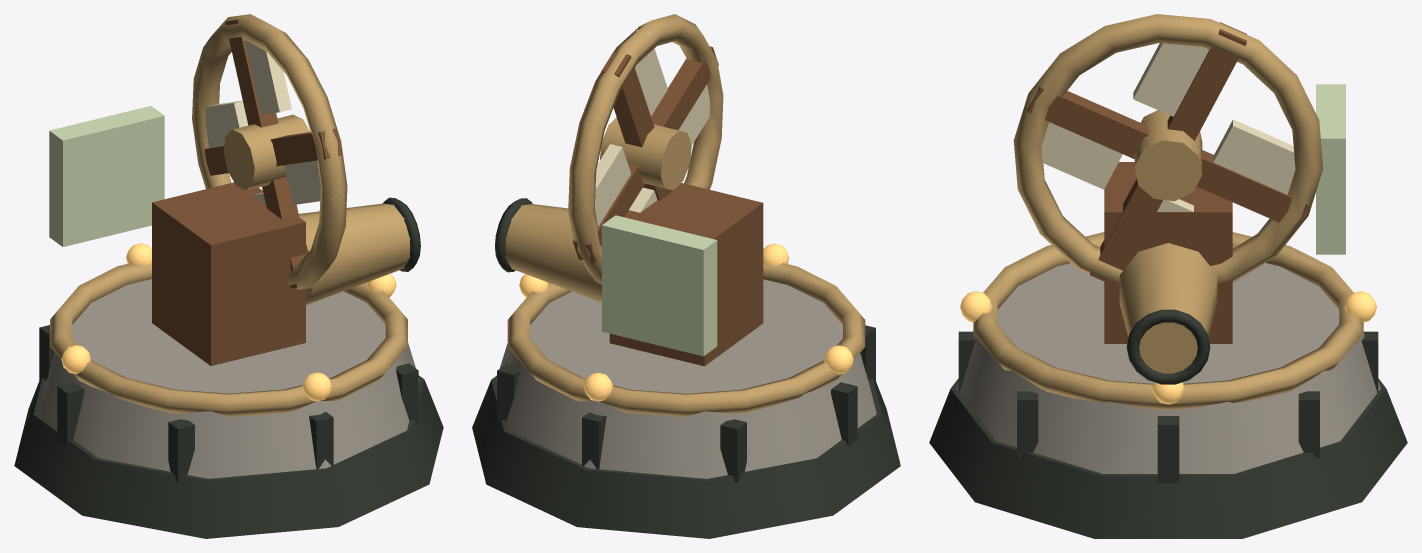
Rendered from tower_wind_windSwitch.glb.
3 views of the same model, side by side, from view 1: azimuth 30°, elevation 25°; view 2: azimuth 150°, elevation 25°; view 3: azimuth 270°, elevation 25° (orthographic). The views are drawn at different scales.
Parts seen in each view (by area): view 1: stone_1, foot_0, mill_15, deflector_28, rim_2, guide_ring_16, air_nozzle_26, hub_17, sail_21, spar_20, spar_22, sail_19 (+11 smaller); view 2: stone_1, foot_0, deflector_28, rim_2, mill_15, guide_ring_16, air_nozzle_26, hub_17, spar_22, spar_20, sail_19, mortar_8 (+10 smaller); view 3: stone_1, foot_0, guide_ring_16, rim_2, air_nozzle_26, mill_15, deflector_28, hub_17, sail_19, spar_22, sail_21, sail_23 (+12 smaller).
Boxes of the visible parts, x1,y1,x2,y2 form: stone_1: (38, 279, 419, 478); foot_0: (14, 375, 443, 538); mill_15: (152, 182, 305, 365); deflector_28: (49, 106, 164, 246); rim_2: (50, 262, 407, 416); guide_ring_16: (192, 14, 347, 289); air_nozzle_26: (299, 203, 410, 304); hub_17: (223, 114, 310, 190); sail_21: (245, 25, 291, 114); spar_20: (225, 19, 278, 127); spar_22: (270, 128, 342, 166); sail_19: (205, 100, 248, 147); stone_1: (496, 279, 876, 478); foot_0: (472, 375, 900, 538); deflector_28: (602, 215, 717, 356); rim_2: (507, 263, 865, 416); mill_15: (609, 183, 763, 366); guide_ring_16: (568, 14, 723, 284); air_nozzle_26: (505, 204, 601, 302); hub_17: (600, 117, 691, 190); spar_22: (651, 46, 718, 130); spar_20: (601, 51, 654, 147); sail_19: (571, 144, 630, 226); mortar_8: (720, 419, 746, 482); stone_1: (956, 263, 1380, 473); foot_0: (929, 378, 1407, 538); guide_ring_16: (1013, 14, 1323, 284); rim_2: (973, 232, 1363, 410); air_nozzle_26: (1119, 243, 1217, 373); mill_15: (1104, 162, 1232, 343); deflector_28: (1316, 84, 1345, 254); hub_17: (1134, 110, 1202, 201); sail_19: (1213, 119, 1317, 194); spar_22: (1027, 85, 1148, 158); sail_21: (1133, 22, 1208, 116); sail_23: (1019, 122, 1122, 189).
Size of the model in its own units: 0.5326 by 0.5815 by 0.56.
